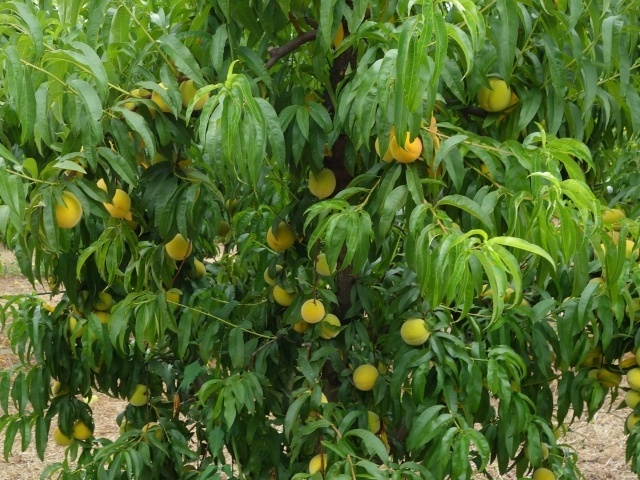peach: (472, 73, 513, 116), (46, 187, 86, 228), (97, 186, 138, 221), (143, 77, 178, 118), (158, 231, 198, 266), (176, 75, 210, 116), (303, 164, 339, 201), (386, 130, 424, 164), (263, 219, 299, 252), (396, 315, 432, 348), (371, 129, 400, 168), (351, 361, 380, 393), (271, 276, 299, 307), (600, 203, 629, 232), (299, 295, 326, 325), (65, 420, 98, 444), (124, 382, 152, 410), (596, 364, 624, 392), (317, 313, 344, 342), (87, 304, 117, 330), (49, 426, 79, 452), (260, 263, 287, 291), (312, 251, 338, 279), (165, 283, 191, 311), (306, 453, 333, 478), (91, 290, 115, 316), (363, 409, 384, 436), (138, 419, 162, 442), (584, 362, 607, 386), (622, 384, 640, 413), (622, 408, 640, 434), (625, 363, 640, 394), (529, 465, 558, 479)
